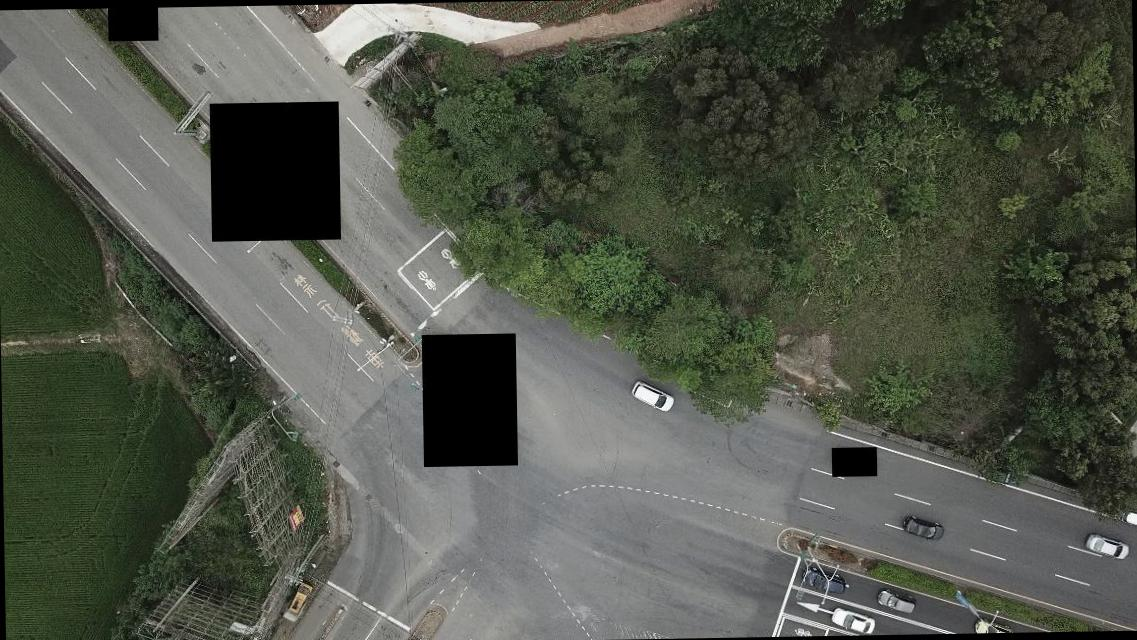vehicle: (630, 380, 675, 412), (829, 606, 874, 634), (802, 565, 844, 594), (1085, 532, 1130, 558), (903, 516, 942, 542), (877, 589, 916, 615), (283, 581, 312, 615), (980, 462, 1020, 485), (977, 616, 1014, 632), (1118, 506, 1136, 531)
